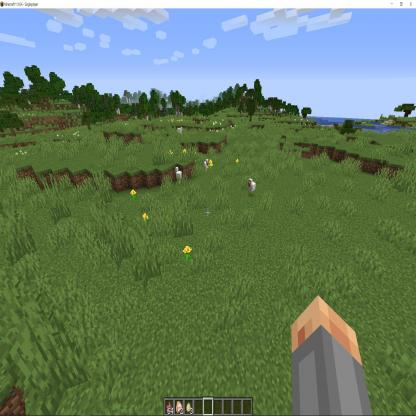minecraft-pigs: (247, 175, 256, 198), (202, 157, 212, 175), (175, 165, 183, 185)
